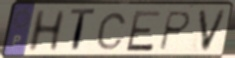C: (95, 11, 128, 51)
E: (124, 9, 164, 53)
H: (25, 9, 68, 54)
P: (156, 10, 193, 52)
T: (68, 8, 97, 56)
V: (197, 8, 229, 54)
